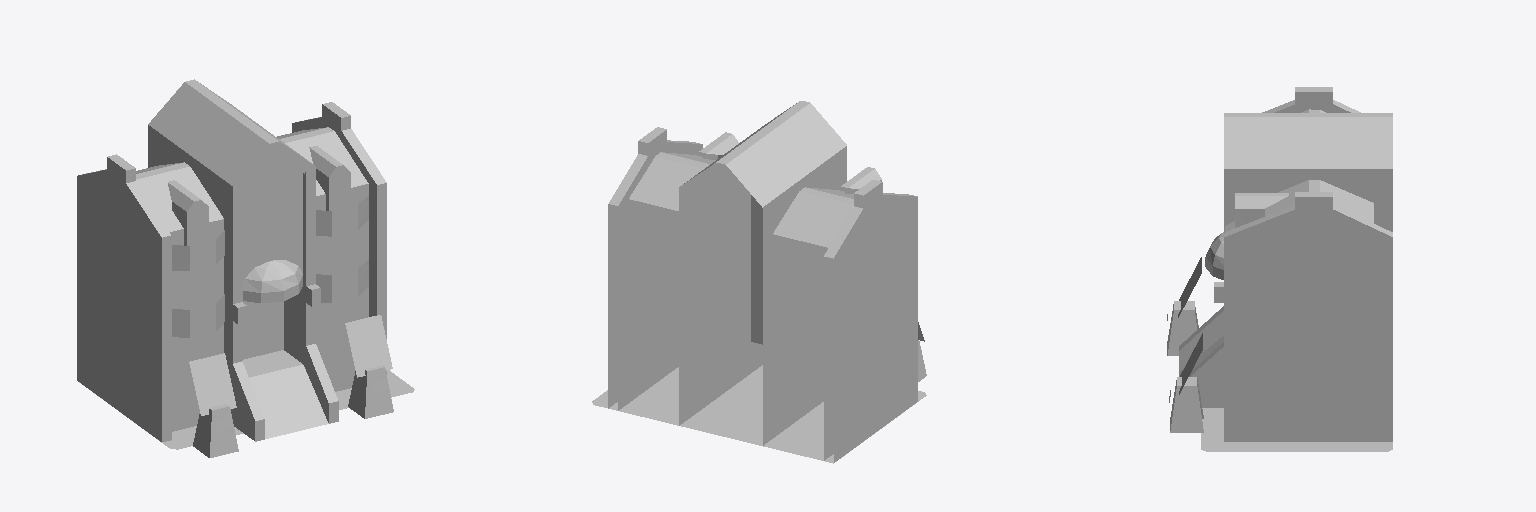
The model's file is Striaton Gym.obj.
The picture shows the model from 3 angles: view 1: azimuth 30°, elevation 25°; view 2: azimuth 150°, elevation 25°; view 3: azimuth 270°, elevation 25°; orthographic projection.
Parts seen in each view (by area): view 1: polygon4, polygon3, polygon2, polygon0; view 2: polygon3, polygon4, polygon2, polygon0; view 3: polygon3, polygon2, polygon4, polygon0.
Part boxes in pixels (bbox=[...]): polygon4: bbox=[107, 102, 392, 441]; polygon3: bbox=[77, 117, 386, 441]; polygon2: bbox=[136, 79, 393, 457]; polygon0: bbox=[79, 370, 414, 449]; polygon3: bbox=[608, 140, 917, 462]; polygon4: bbox=[638, 127, 924, 445]; polygon2: bbox=[629, 101, 926, 381]; polygon0: bbox=[592, 365, 926, 463]; polygon3: bbox=[1167, 100, 1392, 441]; polygon2: bbox=[1167, 109, 1392, 432]; polygon4: bbox=[1178, 87, 1392, 407]; polygon0: bbox=[1201, 408, 1392, 451].
Size of the model in its own units: 100 by 106 by 80.32.